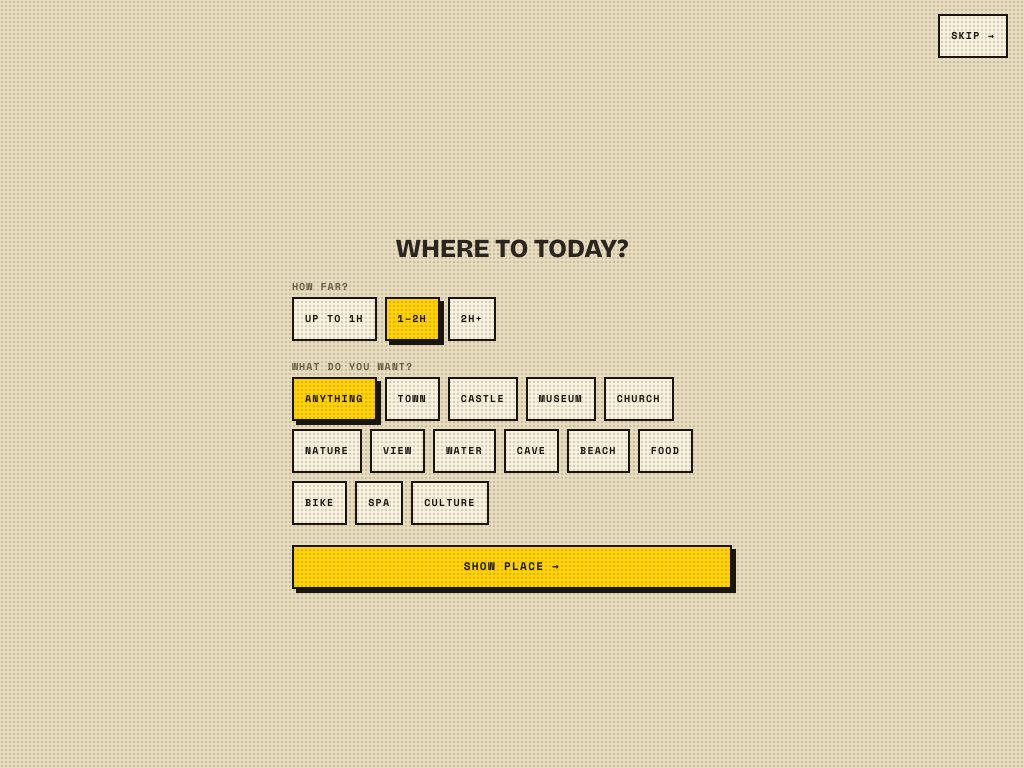
Test case: App — screen switching (issues 59, 141) › skips straight to onboarding's 'Skip →' and lands on Recommend
Click the button "Skip →": (973, 36) x1=938 y1=14 x2=1008 y2=58
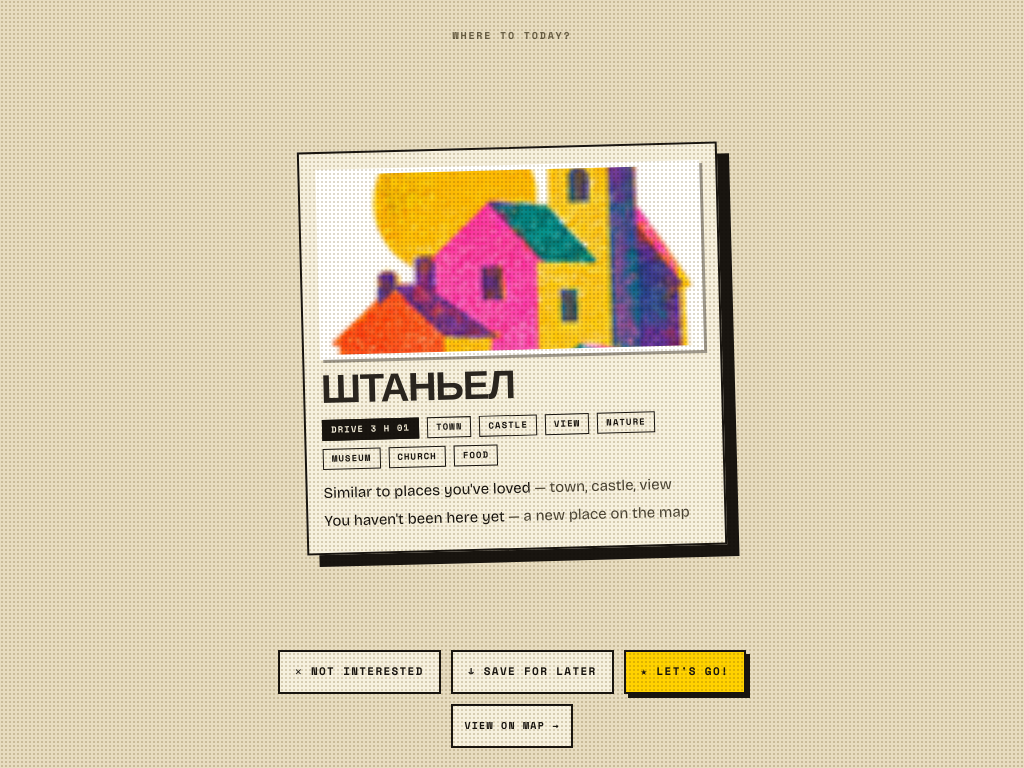
expect the text "How far?" is gone: met
expect the button "★ Let's go!" is shown: met, box x1=624 y1=650 x2=746 y2=694
